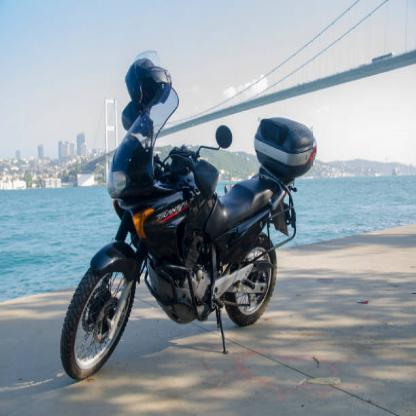Motorcycle: (52, 48, 320, 385)
